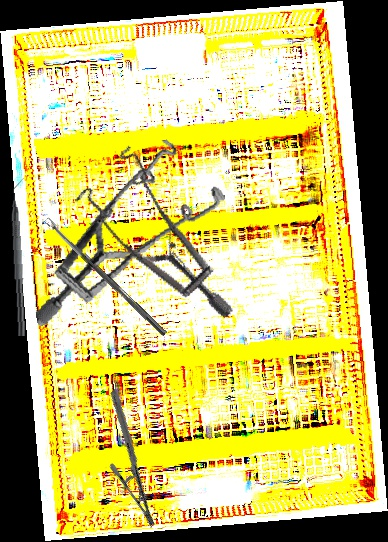Chopper: (7, 177, 37, 337)
Needle Holder: (62, 388, 204, 529)
Speculum: (7, 130, 243, 327), (53, 133, 276, 321)
Surgical Spoon: (43, 216, 169, 337)
